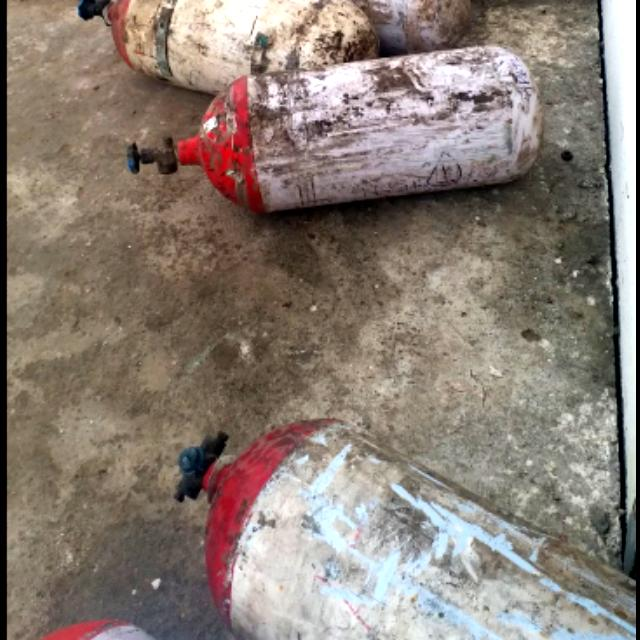Cylinders: (165, 415, 634, 638), (125, 39, 548, 220)
